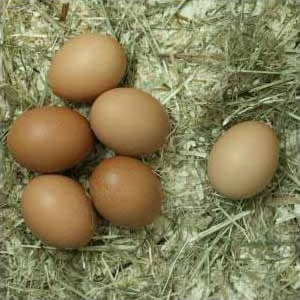egg: (20, 174, 100, 249), (8, 106, 95, 174), (207, 122, 280, 200), (47, 33, 127, 103), (91, 88, 170, 156), (90, 157, 161, 228)
